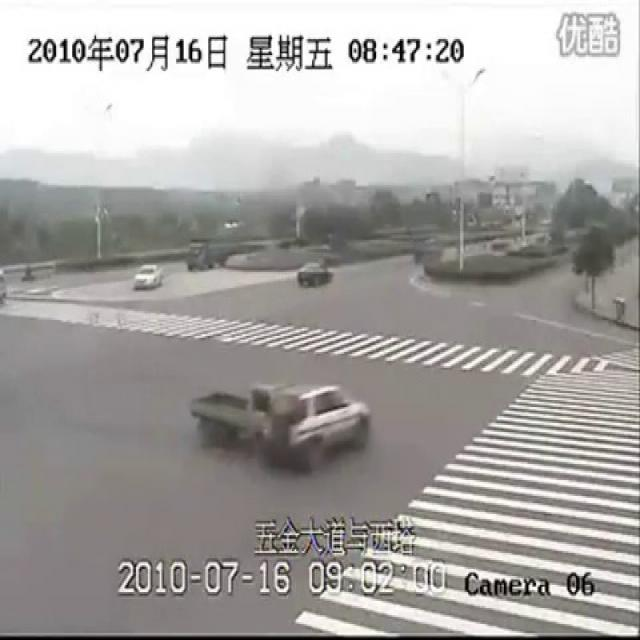accident: (187, 384, 372, 473)
